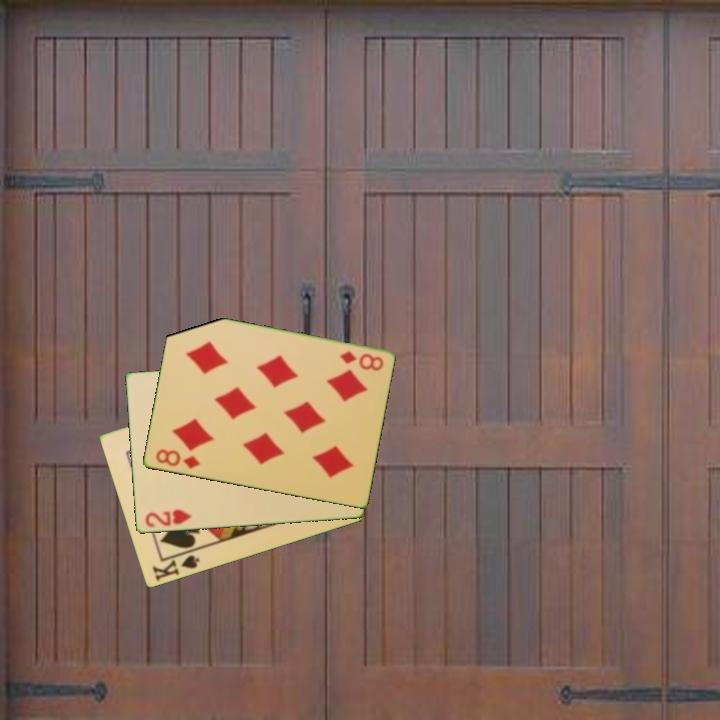2h: (141, 506, 194, 530)
8d: (152, 446, 203, 472), (336, 348, 386, 374)
Ks: (149, 552, 202, 584)
